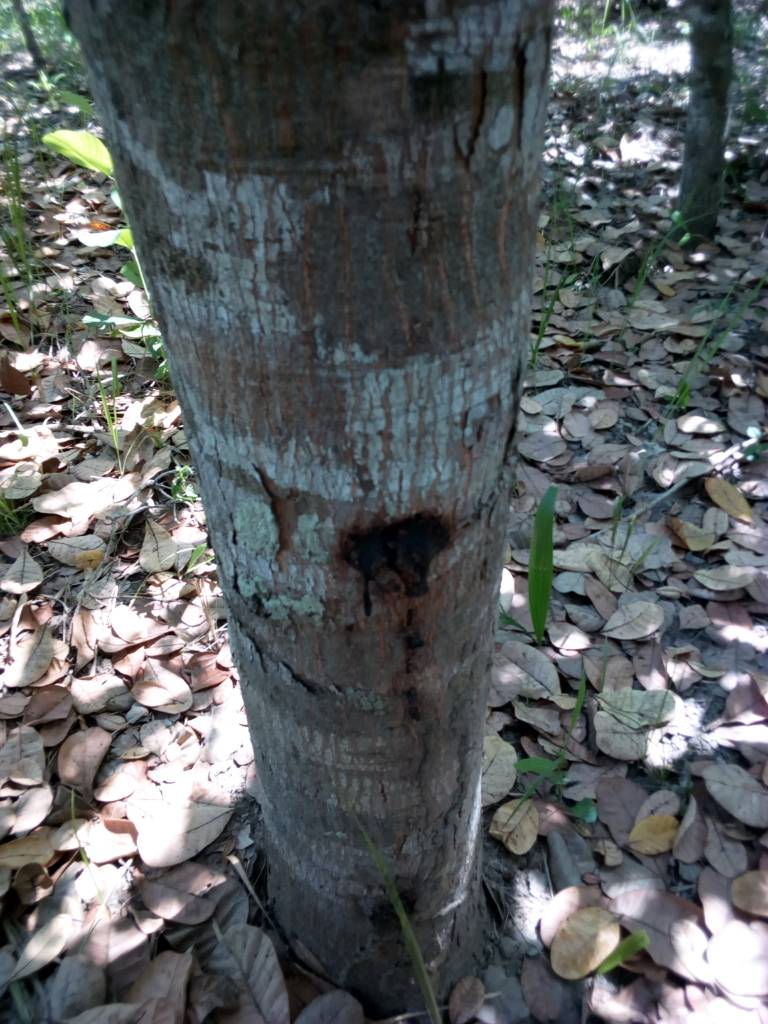ploceadorus ferrugineus: (324, 470, 509, 662)
